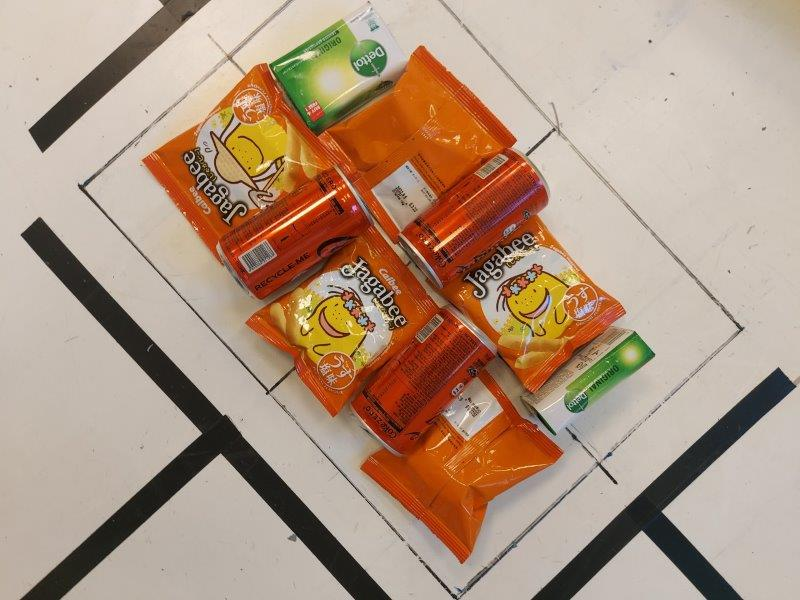Coke: (347, 304, 498, 456), (397, 146, 552, 288), (215, 167, 373, 300)
Dettol: (270, 2, 413, 134), (519, 324, 654, 436)
Jagabee: (142, 64, 362, 261), (362, 359, 565, 564), (245, 222, 456, 418), (423, 196, 628, 396), (309, 45, 516, 242)
